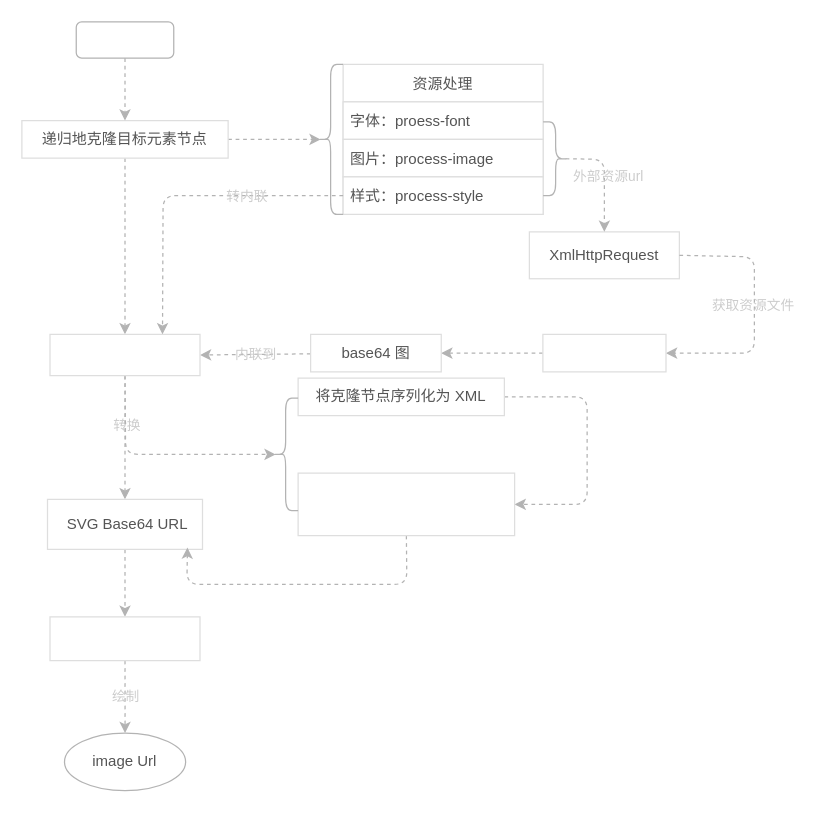
The diagram is 815 pixels wide and 813 high, and some of its shapes have lost their labels. Each missing label, with the centre of its shape:
Canvas: (x=124, y=638)
FileReader: (x=604, y=352)
克隆元素: (x=124, y=354)
将 XML包装到<foreignObject>标记中，然后包装到 SVG中，然后使其成为一个数据 URL: (x=406, y=504)
开始: (x=124, y=39)
